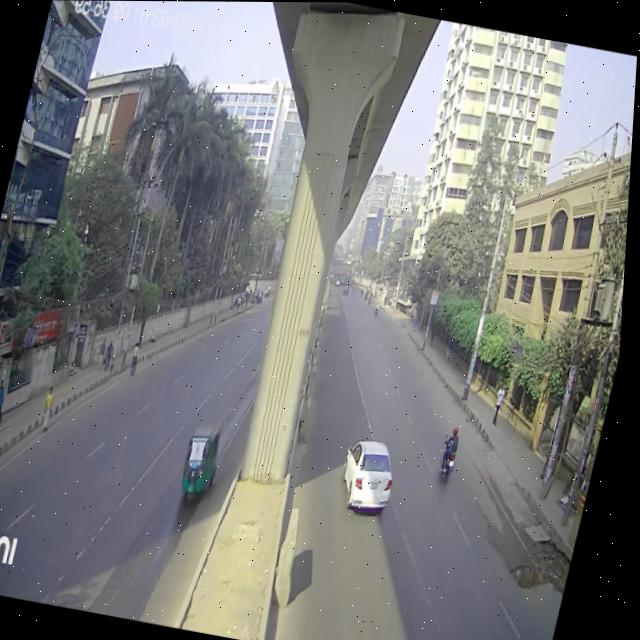cng: (178, 413, 235, 515)
